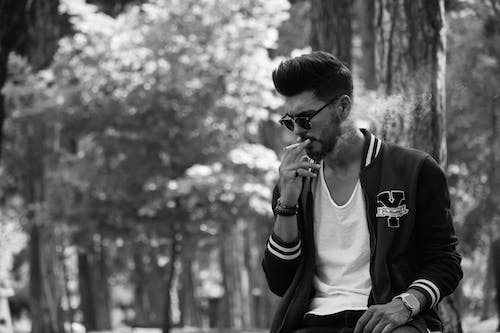cigarette: (282, 141, 307, 152)
